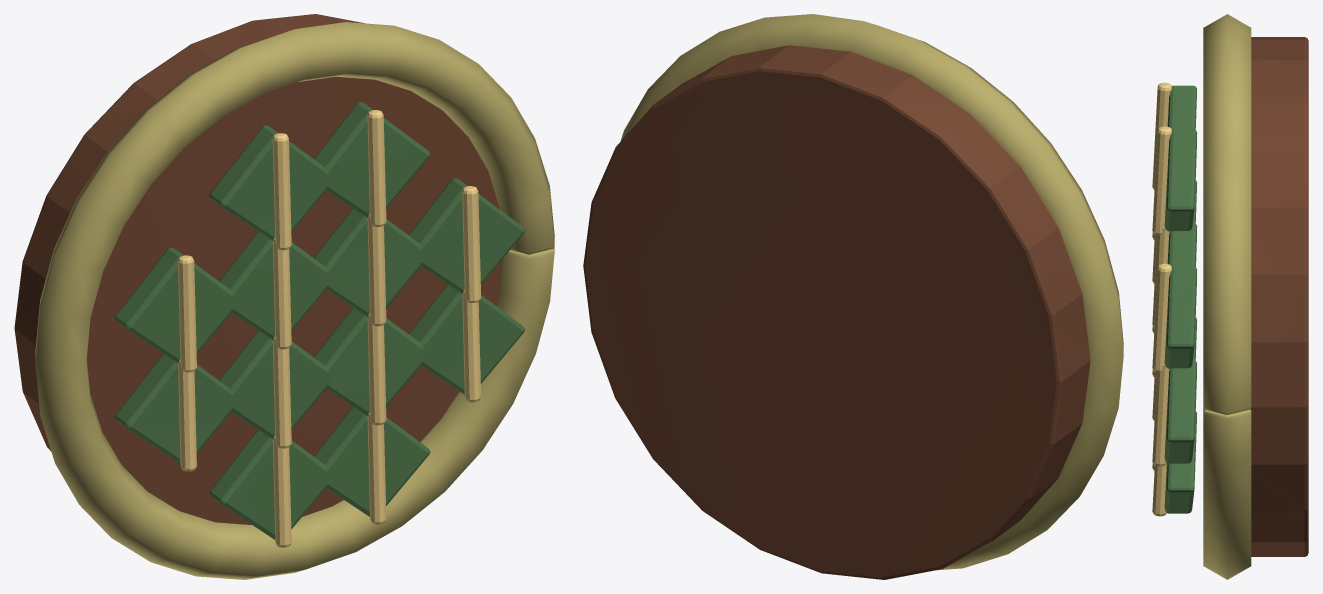
File: item_058.glb
3 renders of one model, left to right at view 1: azimuth 30°, elevation 25°; view 2: azimuth 150°, elevation 25°; view 3: azimuth 270°, elevation 25°, orthographic. The views are drawn at different scales.
Parts seen in each view (by area): view 1: Item_058_pinecone_buckler; view 2: Item_058_pinecone_buckler; view 3: Item_058_pinecone_buckler.
Boxes of the visible parts, <box> form: Item_058_pinecone_buckler: <box>14,14,554,579</box>; Item_058_pinecone_buckler: <box>583,14,1123,579</box>; Item_058_pinecone_buckler: <box>1152,14,1308,579</box>.
Size of the model in its own units: 0.5097 by 0.51 by 0.1405.
